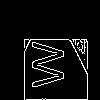W: (25, 41, 64, 89)
